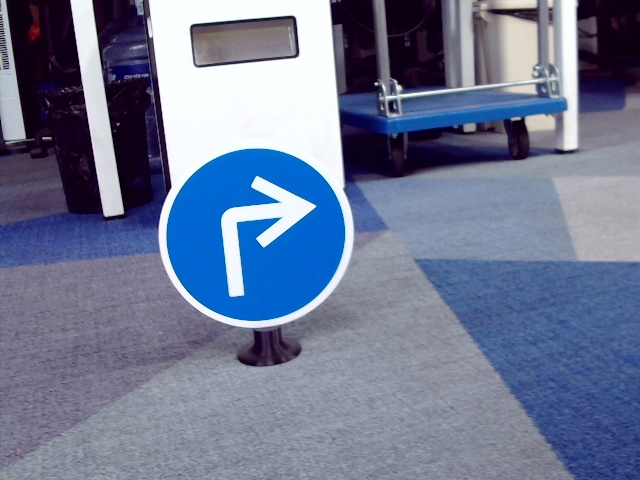turn_right: (199, 176, 318, 301)
